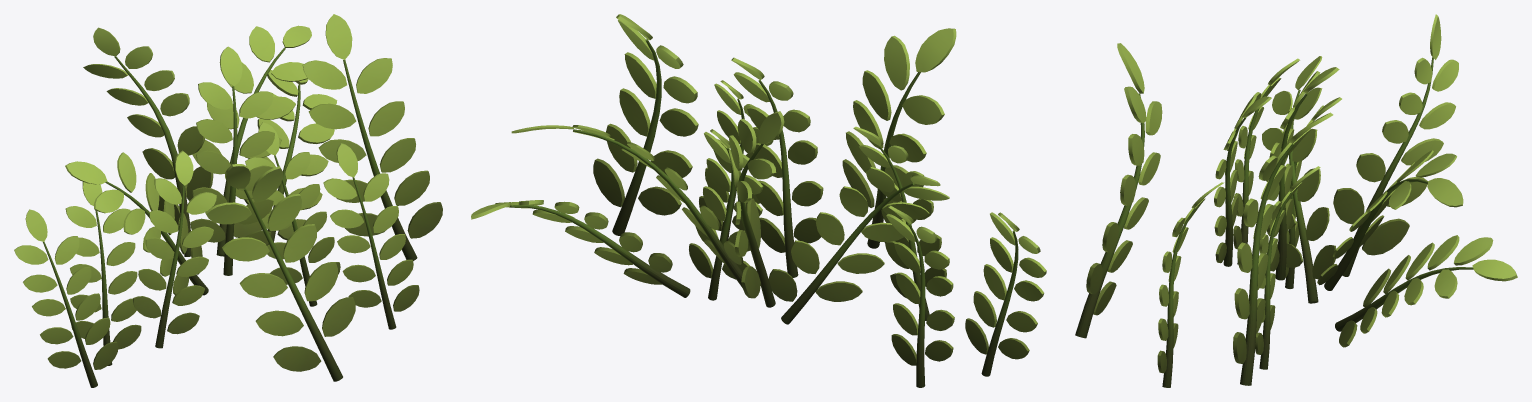
3 renders of one model, left to right at view 1: azimuth 30°, elevation 25°; view 2: azimuth 150°, elevation 25°; view 3: azimuth 270°, elevation 25°, orthographic. The views are drawn at different scales.
Parts seen in each view (by area): view 1: 叶子.019, 叶子.015, 叶子.003, 叶子.004, 叶子.010, 叶子.008, 叶子.006, 叶子, 叶子.007, 叶子.002, 叶子.009, 叶子.001; view 2: 叶子.015, 叶子.002, 叶子.019, 叶子.004, 叶子.006, 叶子.007, 叶子.003, 叶子.001, 叶子.009, 叶子, 叶子.010, 叶子.008; view 3: 叶子.003, 叶子.019, 叶子.001, 叶子.002, 叶子.015, 叶子, 叶子.008, 叶子.010, 叶子.004, 叶子.009, 叶子.006, 叶子.007.
Part boxes in pixels (box(x1,y1,x2,y2)): 叶子.019: box(205, 164, 355, 381); 叶子.015: box(302, 14, 442, 260); 叶子.003: box(83, 27, 213, 256); 叶子.004: box(190, 46, 274, 275); 叶子.010: box(133, 150, 216, 348); 叶子.008: box(323, 143, 419, 329); 叶子.006: box(14, 209, 118, 387); 叶子: box(185, 25, 311, 256); 叶子.007: box(65, 182, 141, 365); 叶子.002: box(65, 152, 208, 295); 叶子.009: box(245, 122, 340, 306); 叶子.001: box(244, 70, 337, 245); 叶子.015: box(593, 14, 698, 235); 叶子.002: box(768, 167, 949, 324); 叶子.019: box(842, 28, 956, 248); 叶子.004: box(731, 57, 823, 277); 叶子.006: box(965, 212, 1046, 376); 叶子.007: box(886, 205, 954, 387); 叶子.003: box(728, 111, 784, 307); 叶子.001: box(471, 200, 690, 297); 叶子.009: box(689, 129, 763, 300); 叶子: box(511, 125, 743, 287); 叶子.010: box(853, 126, 946, 320); 叶子.008: box(699, 80, 773, 240); 叶子.003: box(1333, 14, 1458, 276); 叶子.019: box(1075, 43, 1162, 338); 叶子.001: box(1335, 235, 1517, 347); 叶子.002: box(1262, 56, 1336, 303); 叶子.015: box(1233, 112, 1333, 385); 叶子: box(1317, 150, 1463, 290); 叶子.008: box(1157, 182, 1224, 387); 叶子.010: box(1214, 95, 1271, 266); 叶子.004: box(1267, 67, 1339, 280); 叶子.009: box(1255, 166, 1320, 369); 叶子.006: box(1233, 58, 1299, 264); 叶子.007: box(1285, 97, 1341, 288).
Bounding box in the file's own units: 1.8 × 1.17 × 1.53.
Materials: 1 (1 with a texture image).
